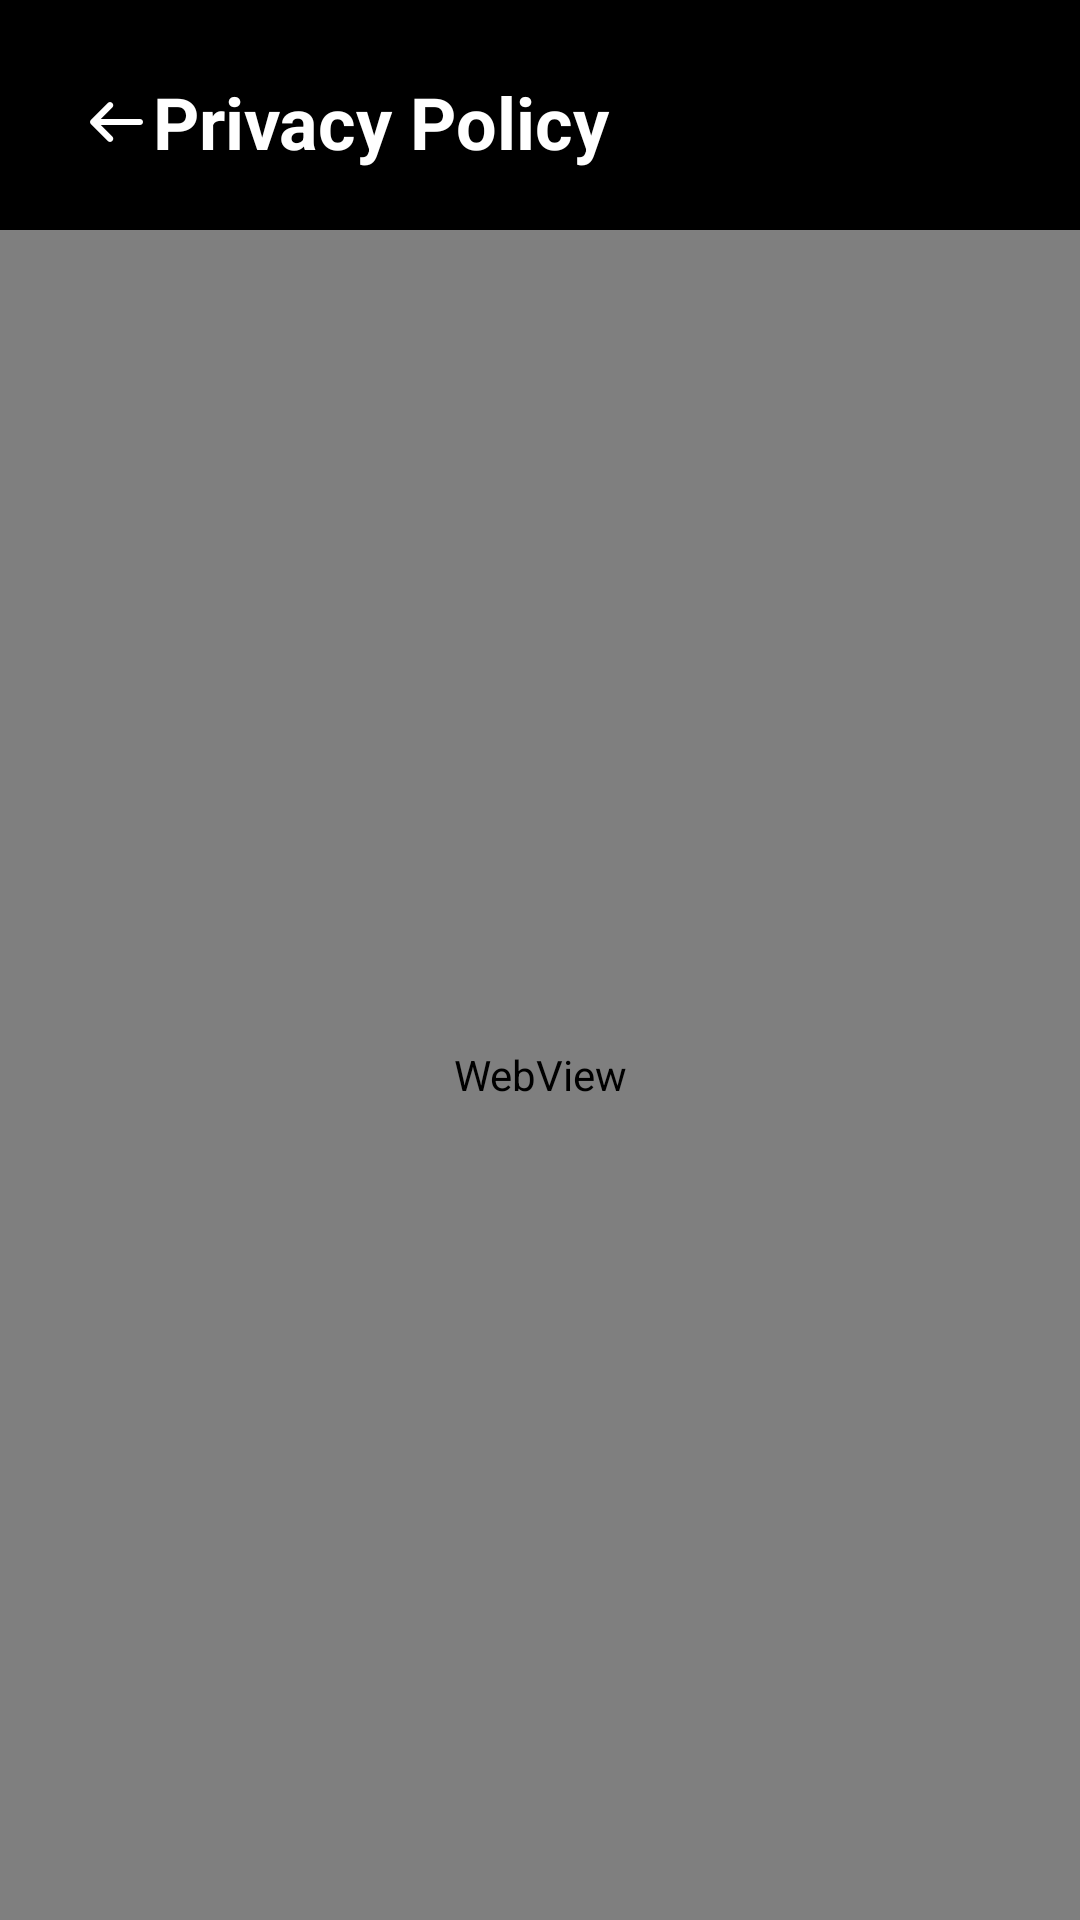

Screen size 1080w x 1920h. Icon name, then its center in pixels as (x=x, y=y):
left arrow: (x=116, y=122)
